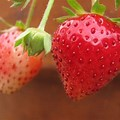Fresa: (51, 11, 120, 105)
